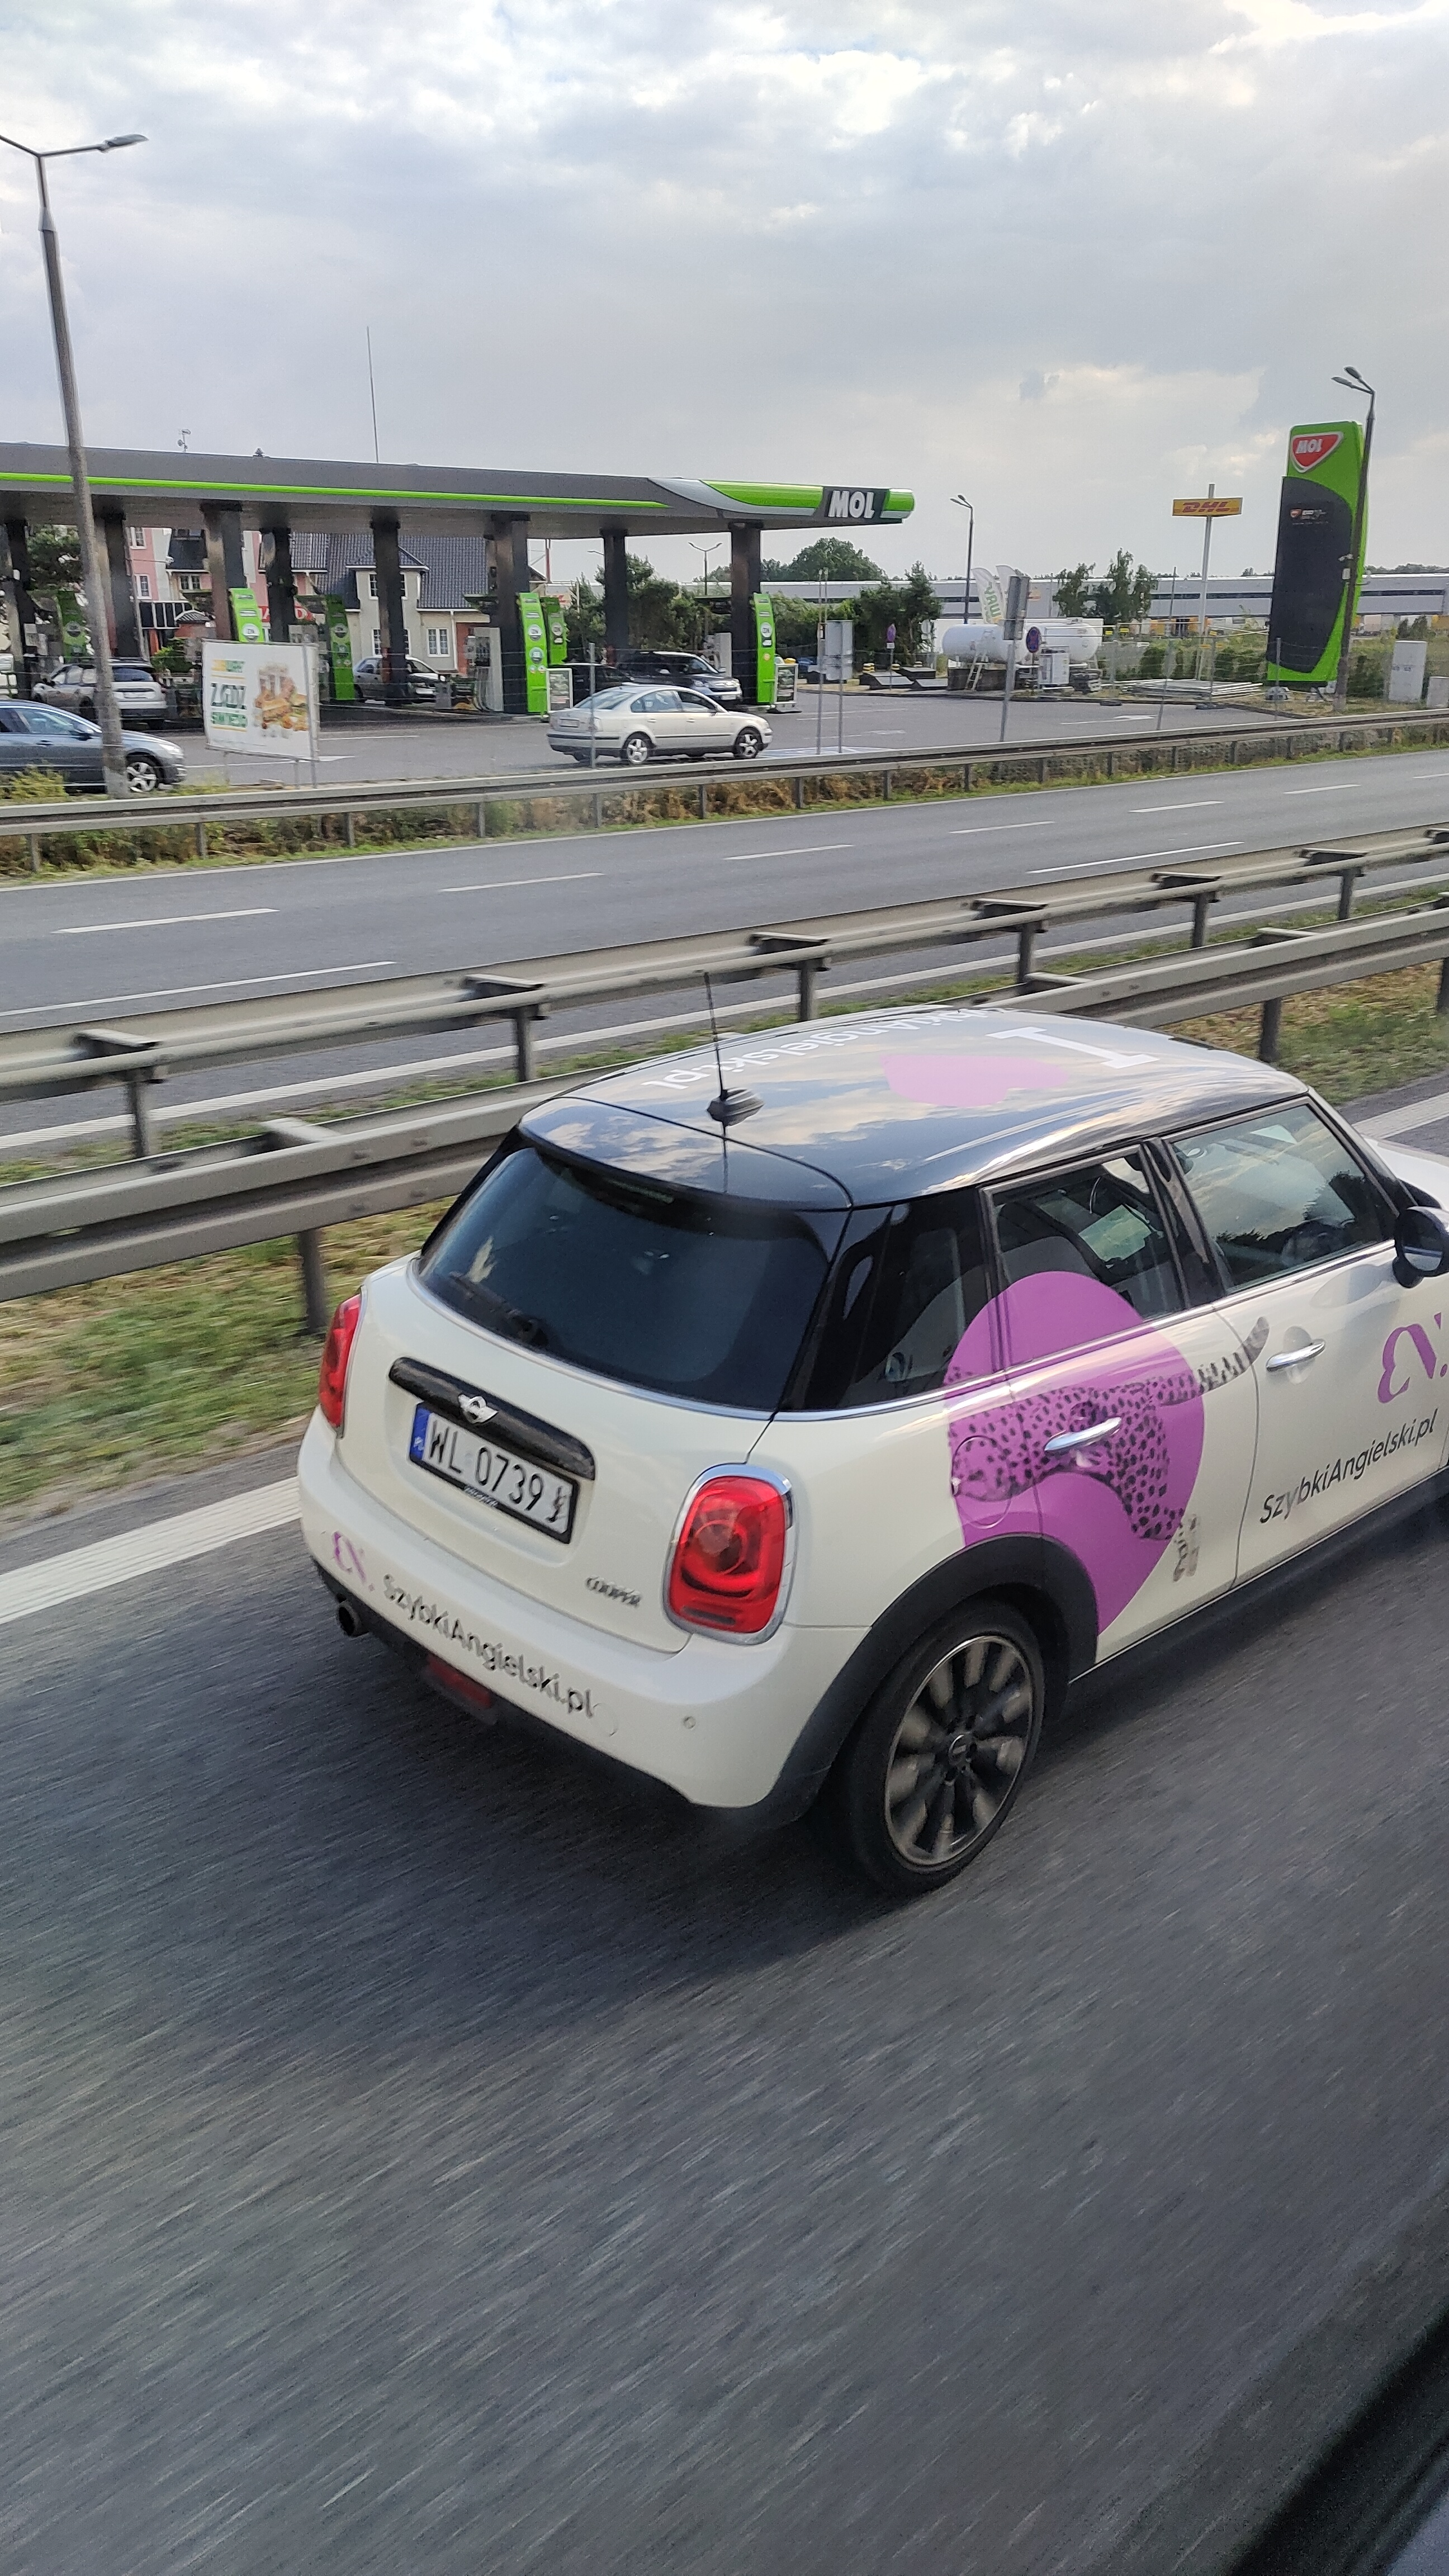number_plate: (408, 1407, 576, 1545)
